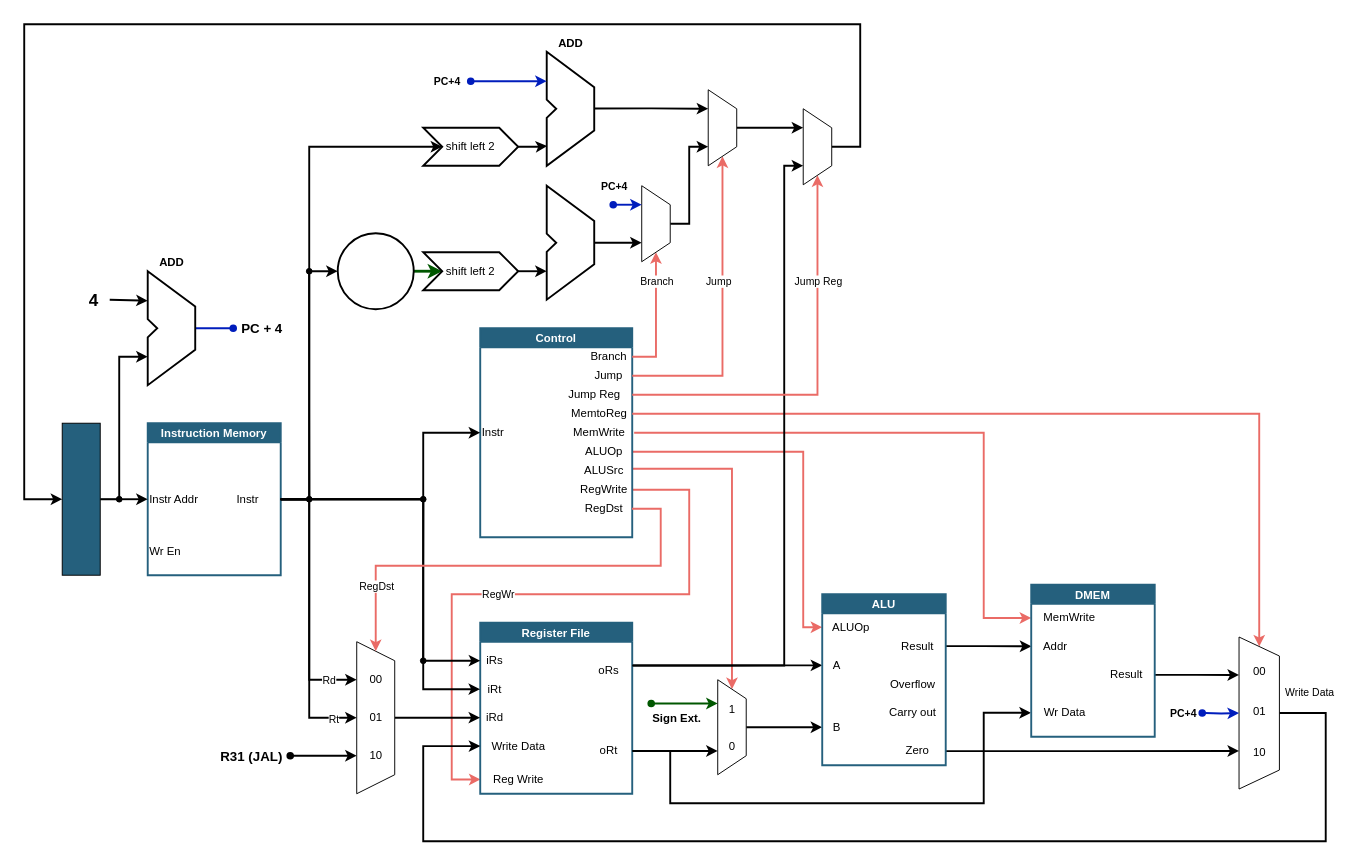
The diagram is 1350 pixels wide and 865 high, and some of its shapes have lost their labels. Each missing label, with the centre of its shape:
"PC" belongs at (x=80, y=498).
"sign extend" belongs at (x=375, y=271).
